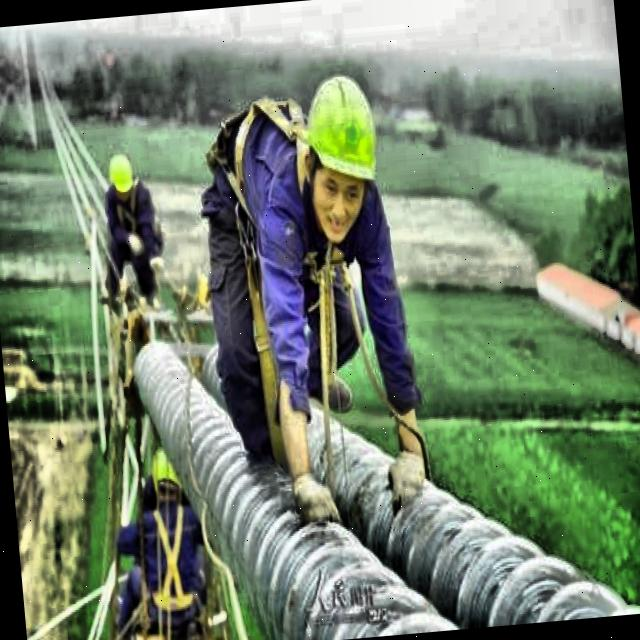helmet: (288, 59, 392, 252), (142, 446, 190, 516), (108, 151, 140, 206)
